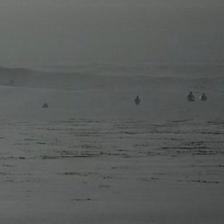surfer: (187, 91, 196, 100), (200, 93, 207, 100), (133, 96, 140, 102), (42, 102, 48, 108), (8, 80, 14, 85)
